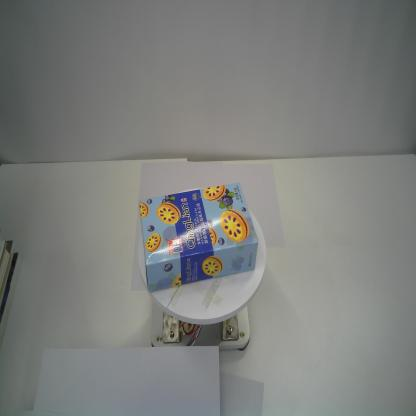Dessert: (139, 183, 258, 292)
